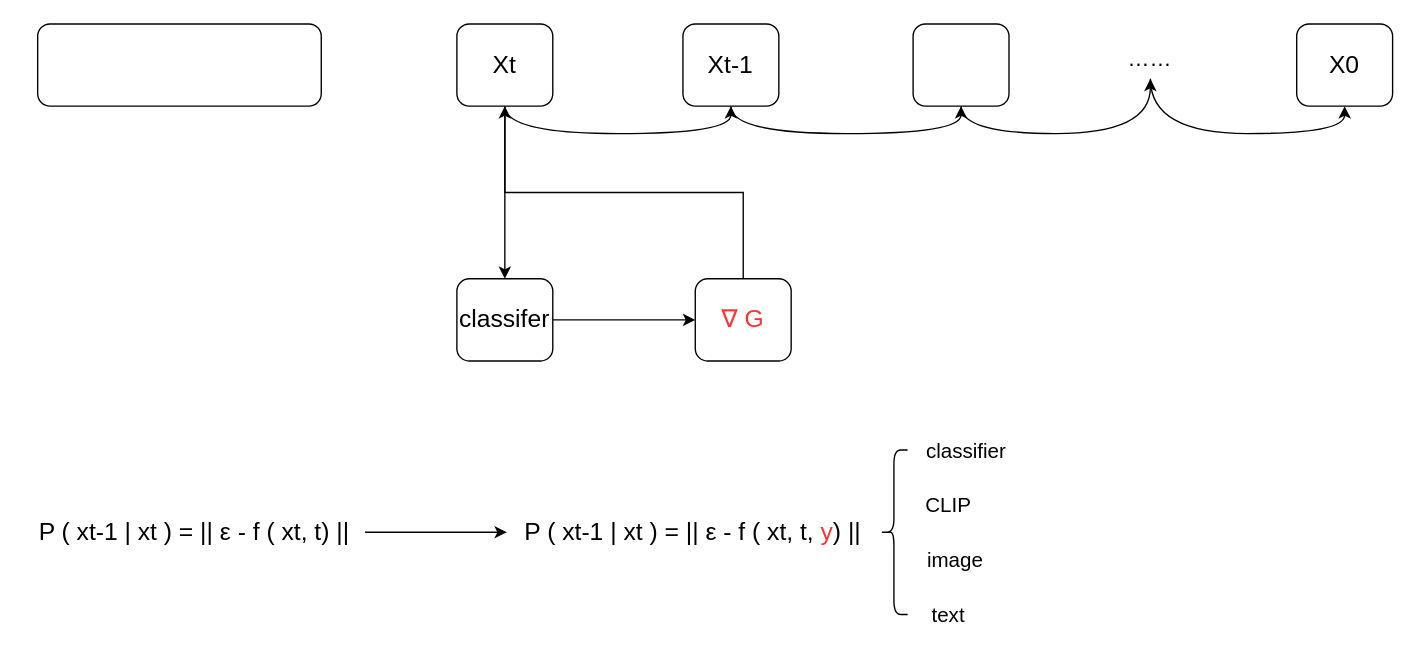
Some shapes in this 1417 by 659 pixel diagram are drawn without their labels. Here are the shapes that lost their labels. From the top down, the box of each, then its label:
(36, 23, 321, 106): classfier guided diffusion
(912, 23, 1009, 106): Xt-2
